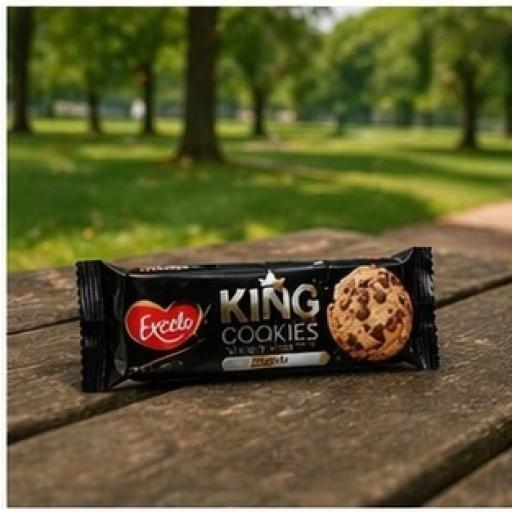king-cooking: (46, 216, 488, 428)
